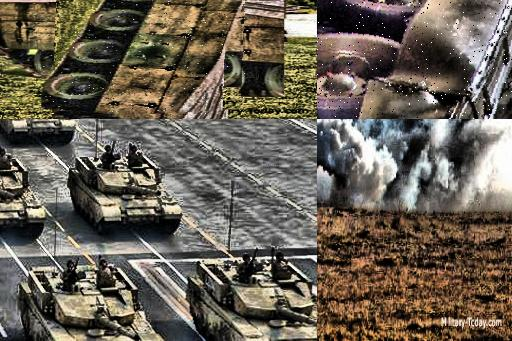tanks: (42, 1, 246, 116), (318, 1, 512, 120), (187, 253, 318, 341), (19, 267, 164, 341), (69, 147, 183, 234), (1, 150, 47, 239), (1, 120, 76, 145)
